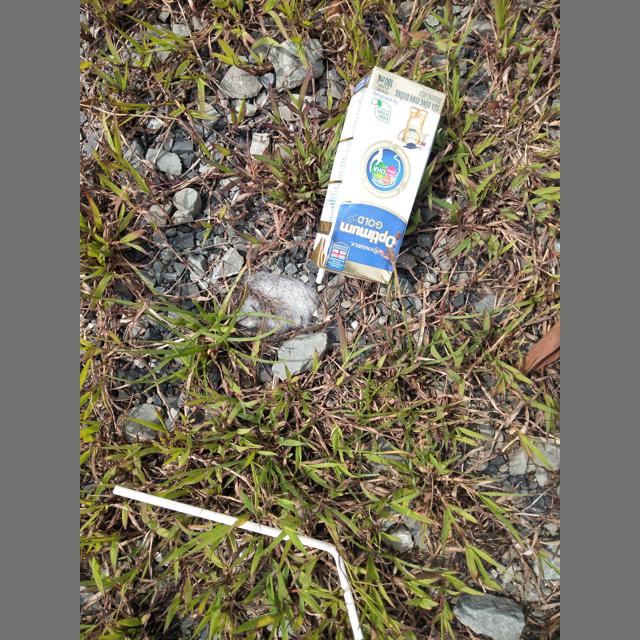litter: (113, 485, 363, 639), (311, 66, 446, 284), (315, 268, 325, 284)
